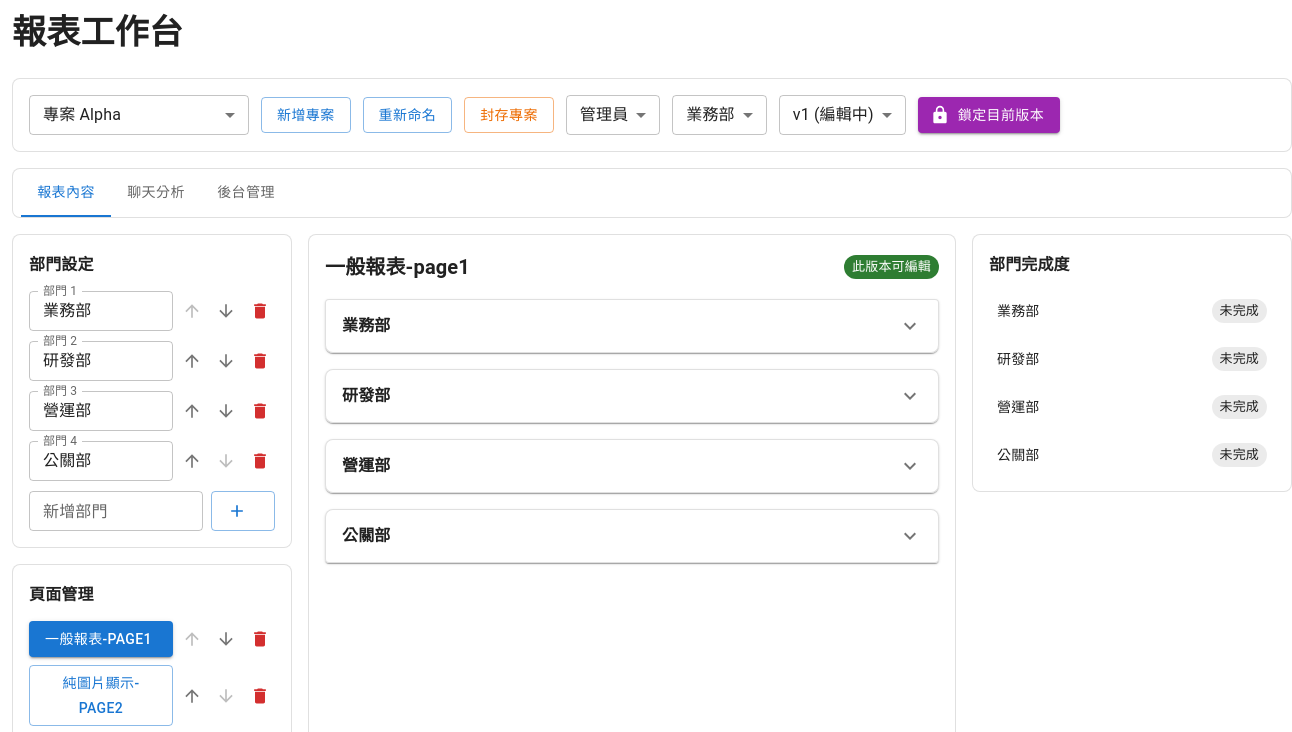
Test case: ReportWorkspacePage backend management tab › hides backend management tab for department user
Step 1. Press the mouse on the dropdown labelled "管理員" → x=604, y=115, box [580, 106, 628, 124]
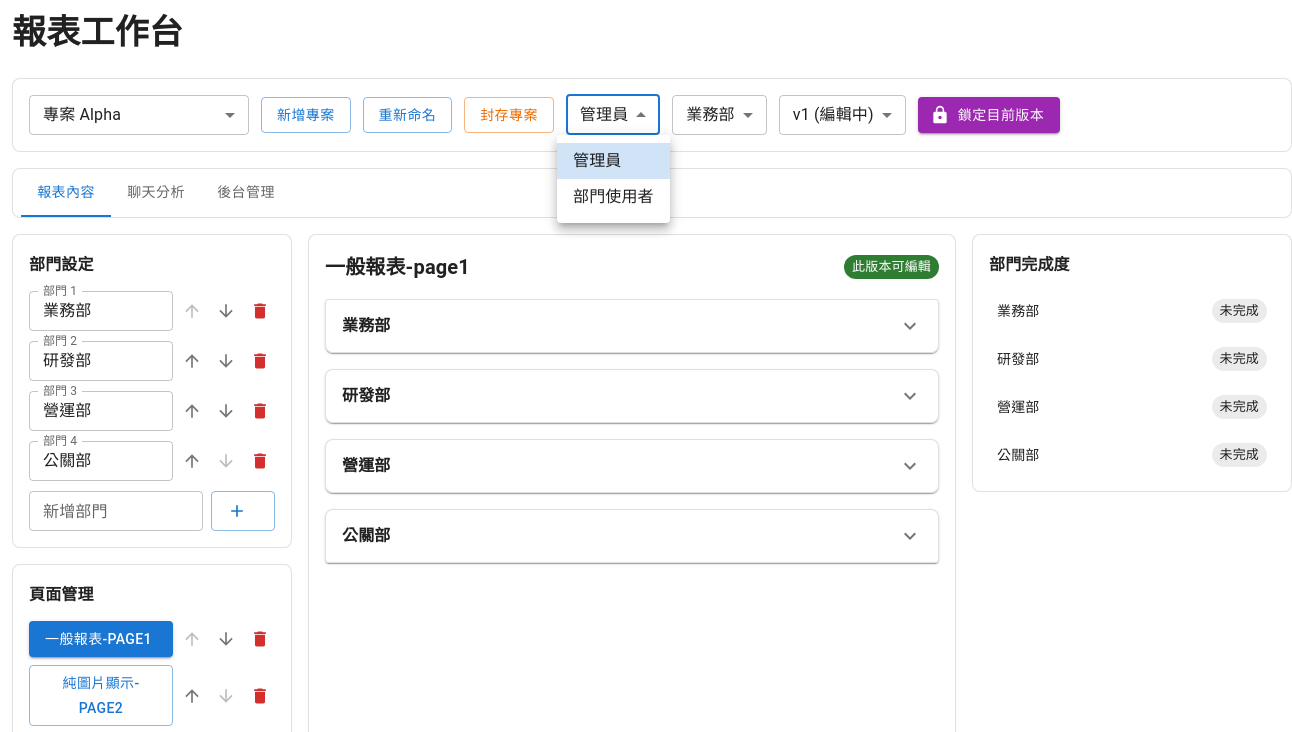
Step 2. Click the option "部門使用者" → x=613, y=196, box [573, 187, 654, 206]
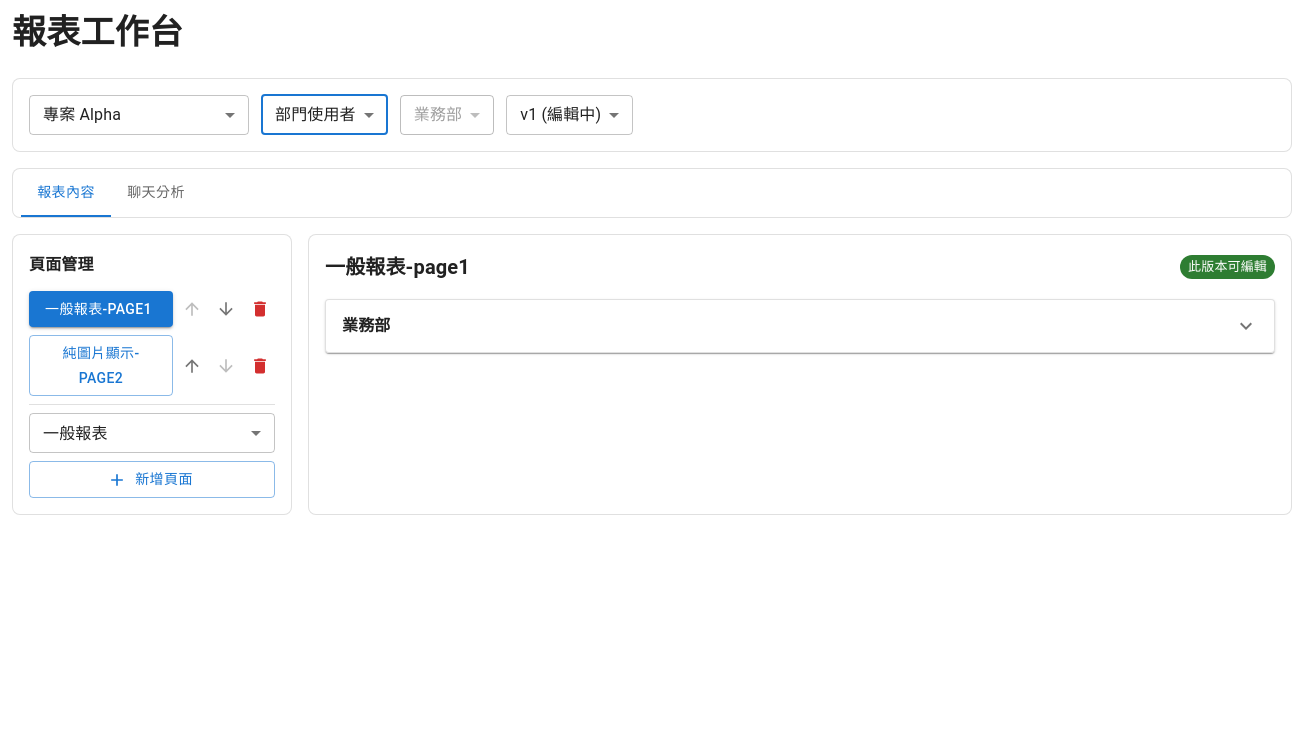
Check: the tab "後台管理" is gone
